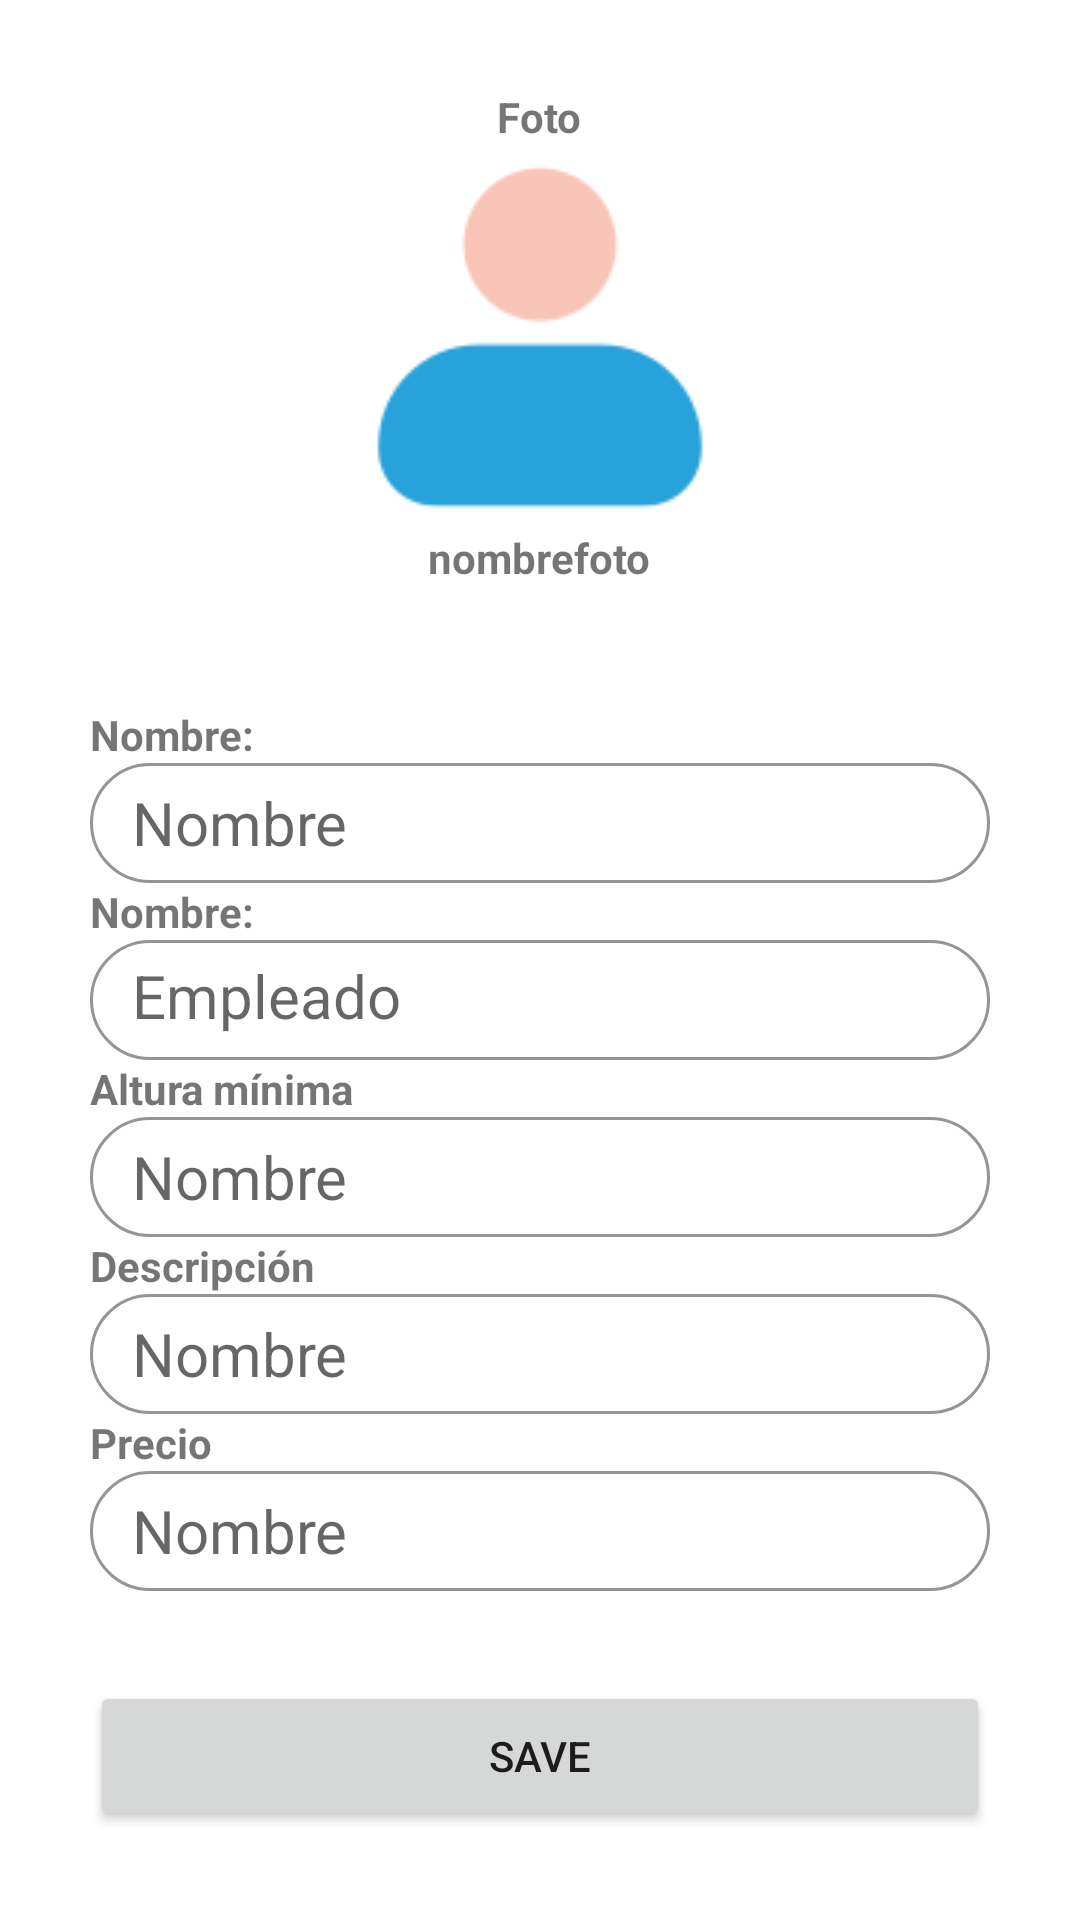

Icons on this 1080x1920 Android screen, each with the point to tap as point (x, y):
user: point (540, 338)
